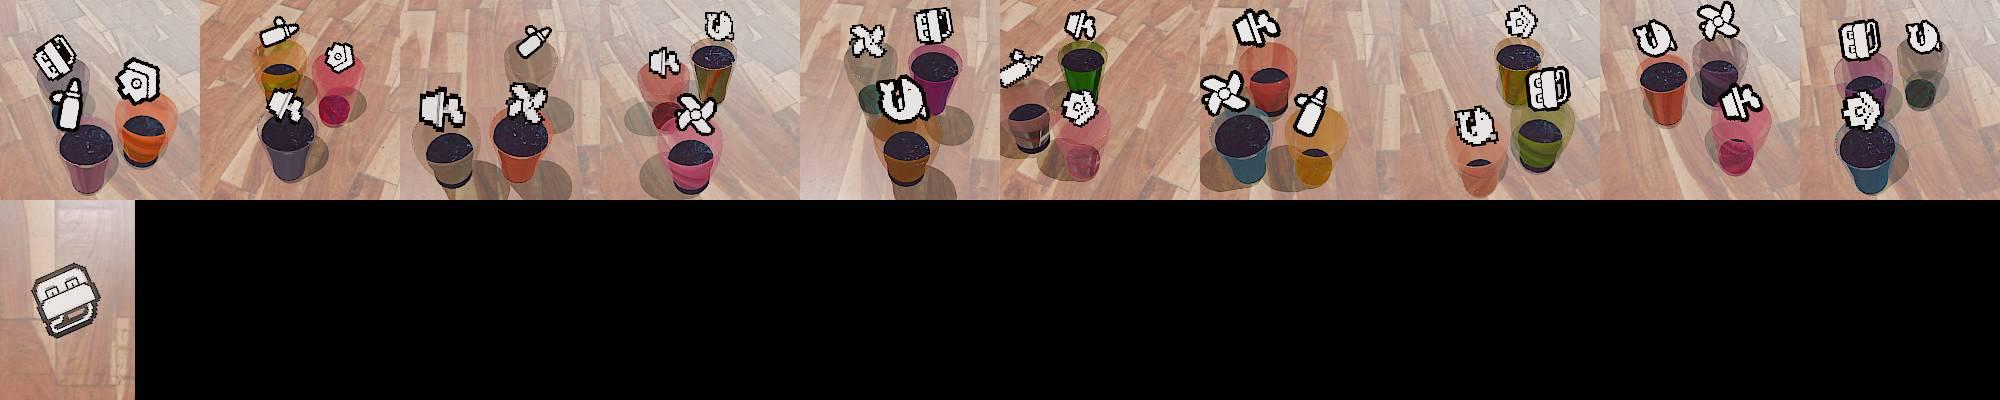icon: (31, 262, 102, 339), (875, 74, 930, 124), (115, 57, 162, 106), (418, 84, 467, 131), (33, 34, 79, 84), (1200, 70, 1247, 117), (50, 78, 87, 135), (1527, 65, 1571, 112), (1452, 103, 1499, 146), (1291, 83, 1328, 138), (999, 46, 1045, 89), (1232, 6, 1279, 48), (675, 93, 718, 138), (1838, 18, 1881, 61), (1841, 85, 1883, 130), (1717, 83, 1764, 122), (505, 82, 548, 124), (1695, 1, 1739, 43), (1633, 18, 1677, 57), (514, 20, 555, 61), (913, 6, 954, 45), (1061, 88, 1099, 127), (848, 22, 888, 59), (265, 87, 305, 122), (259, 15, 301, 48), (1904, 19, 1941, 55), (1504, 4, 1538, 39), (1064, 9, 1098, 42), (647, 46, 682, 78), (703, 9, 735, 43), (323, 41, 355, 73)
